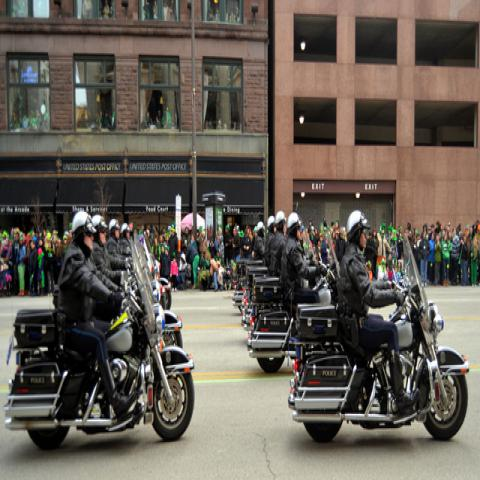motorcycle: (3, 253, 196, 455), (288, 255, 471, 445), (247, 262, 336, 356), (132, 234, 182, 345), (250, 290, 316, 365), (140, 232, 167, 309), (241, 265, 270, 325), (232, 256, 261, 300), (158, 277, 172, 311)
